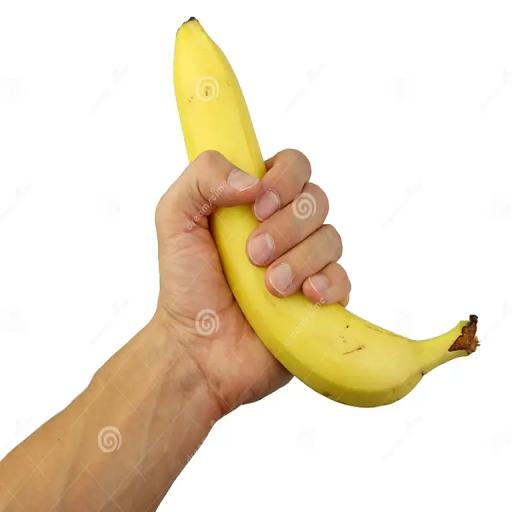banana: (212, 206, 477, 406)
